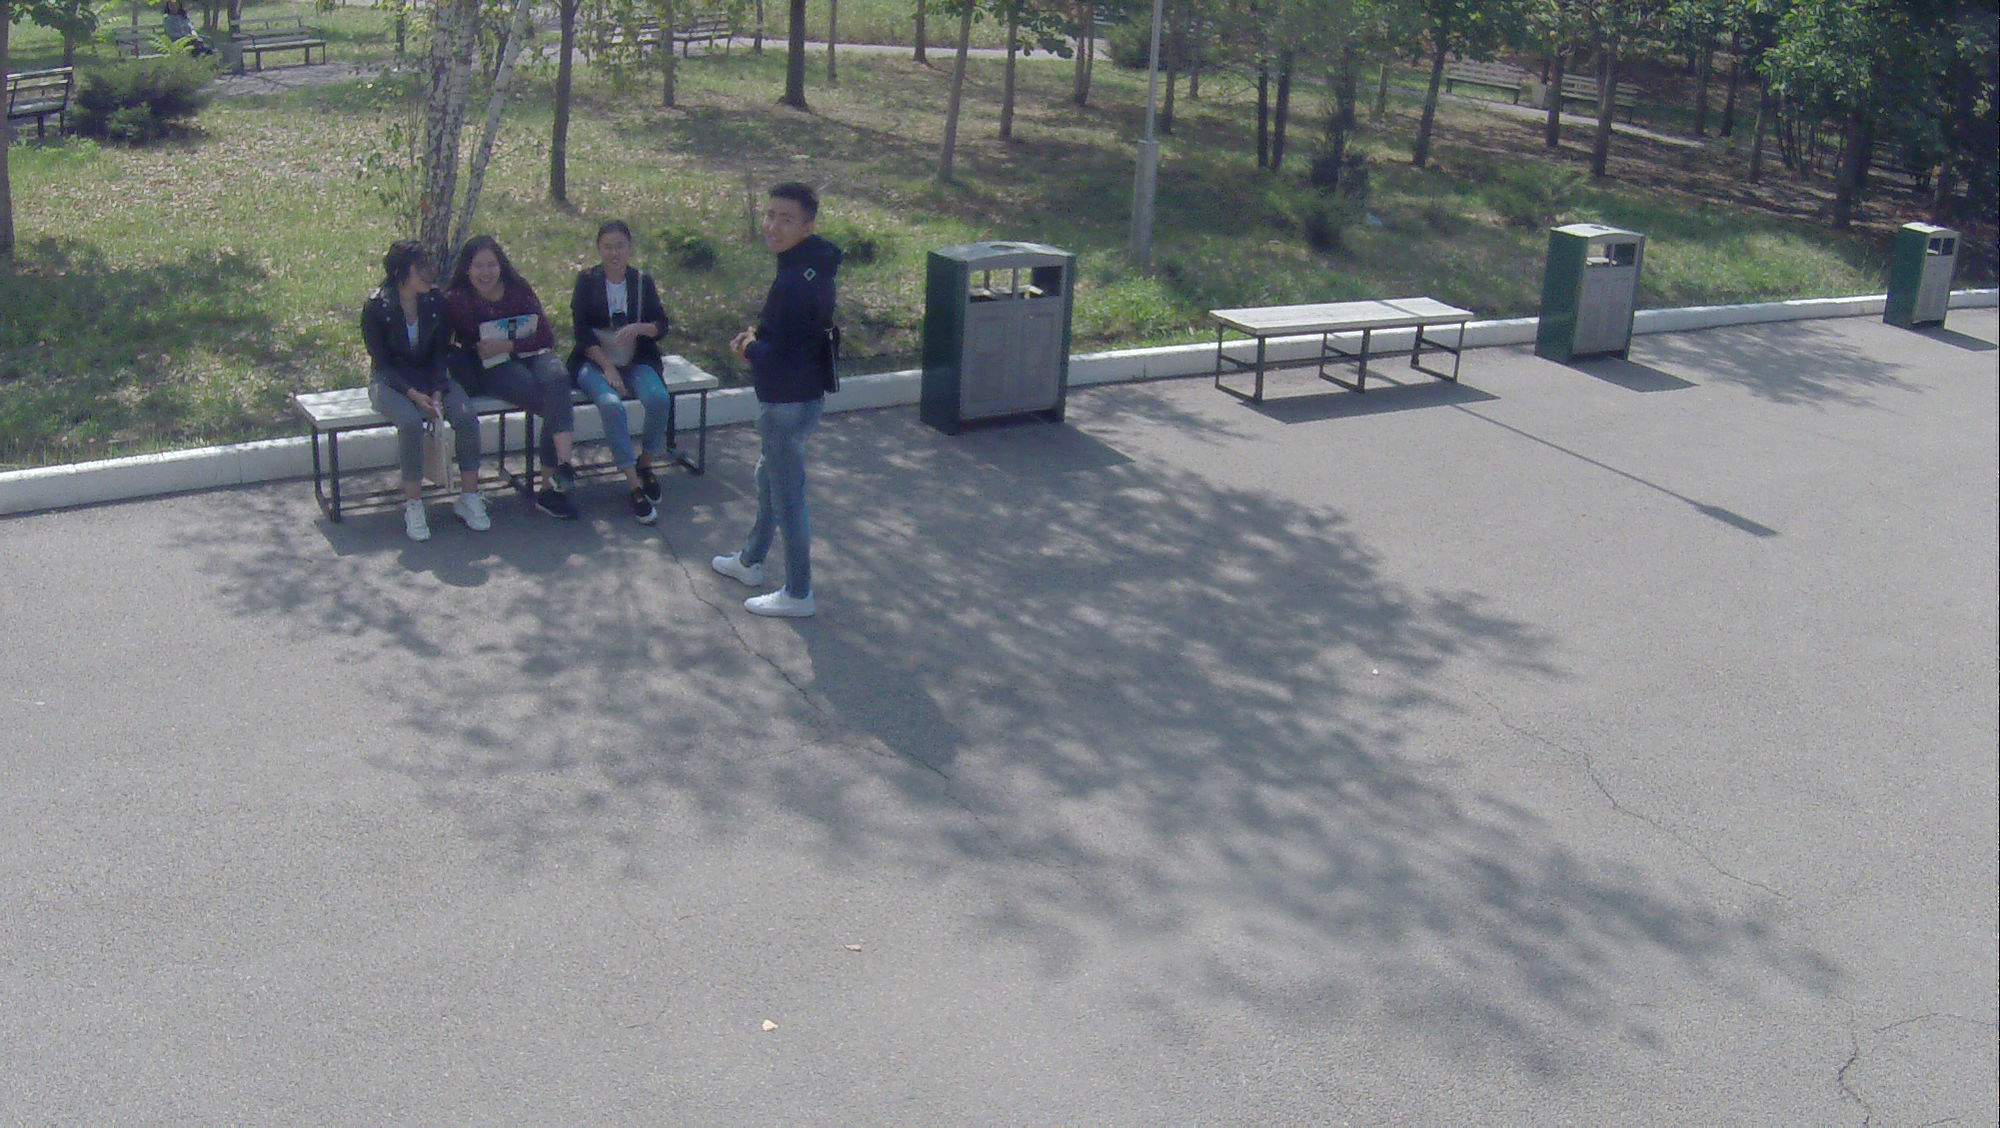person: (710, 172, 880, 637), (357, 239, 505, 564), (451, 228, 568, 541), (572, 224, 668, 537)
